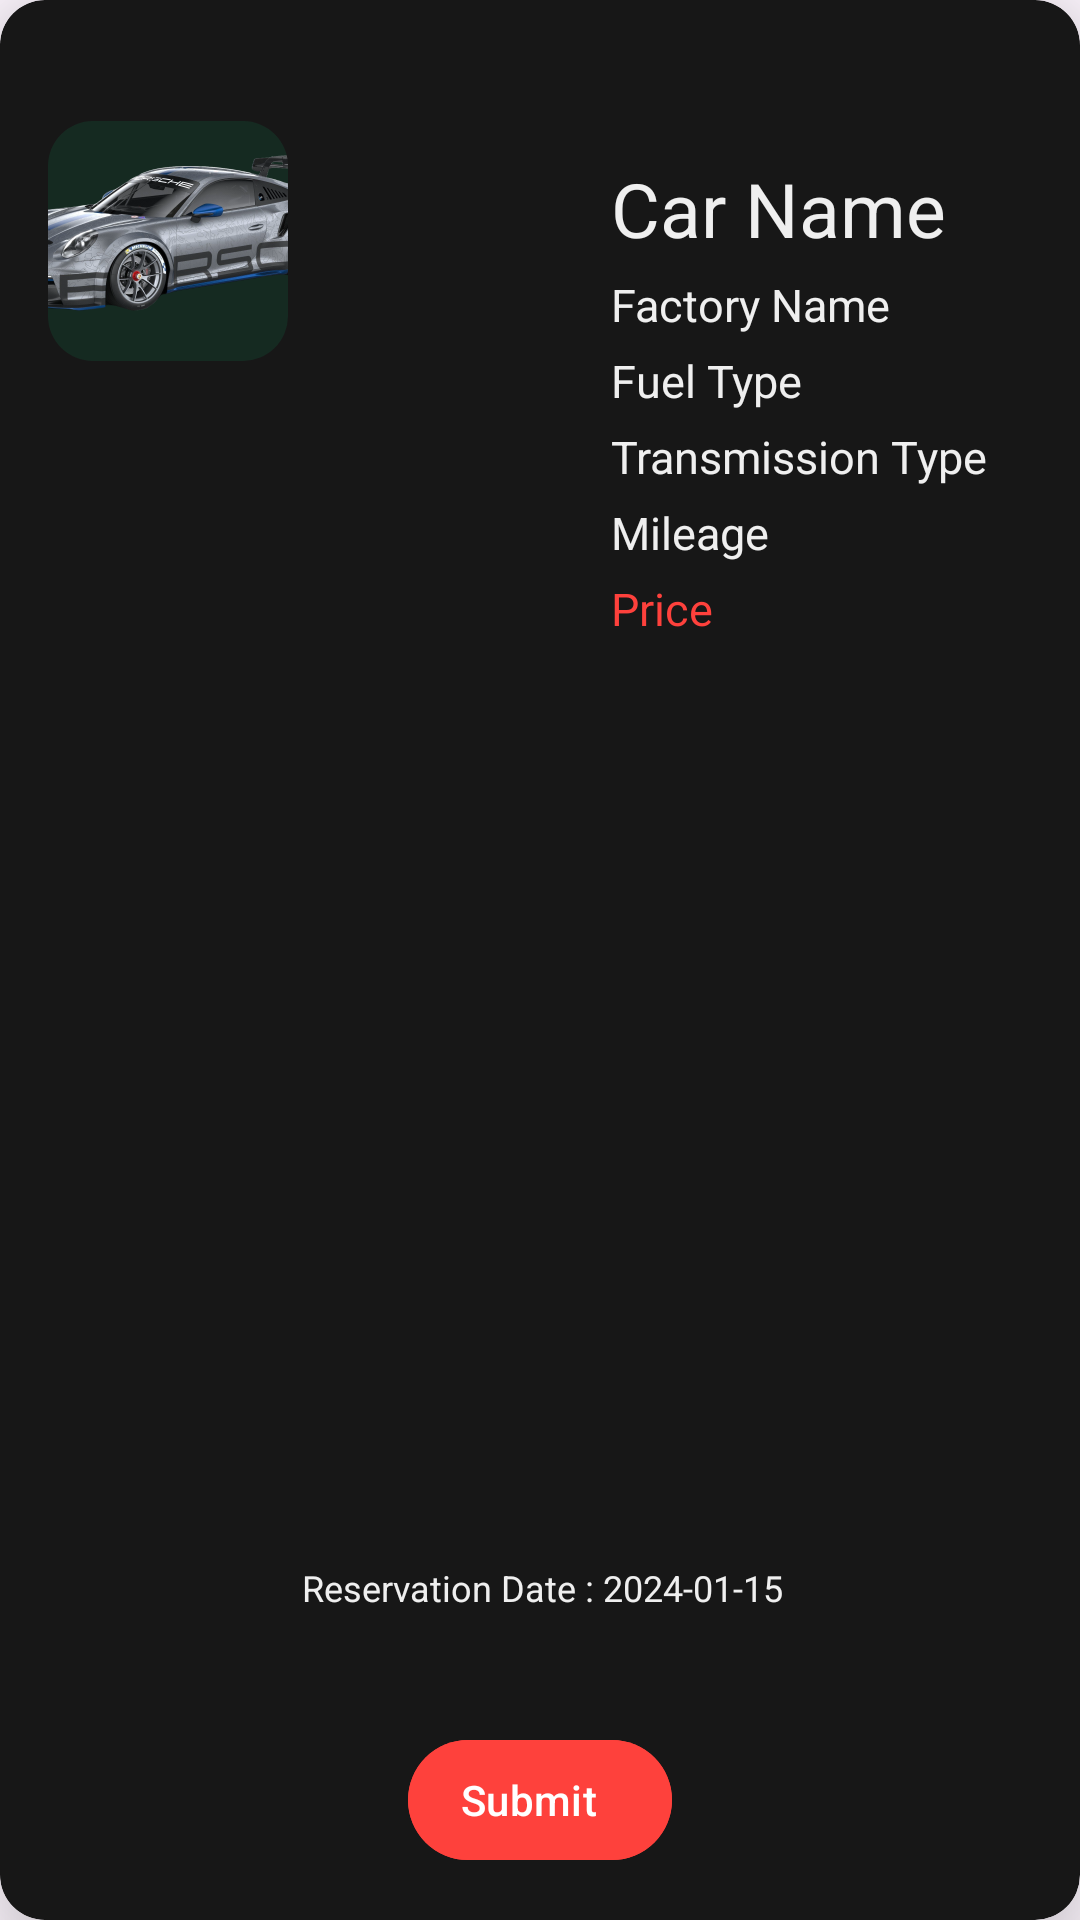

Icons on this 1080×1920 Android screen, each with the point to tap as [x,y]:
car: [168,233]
